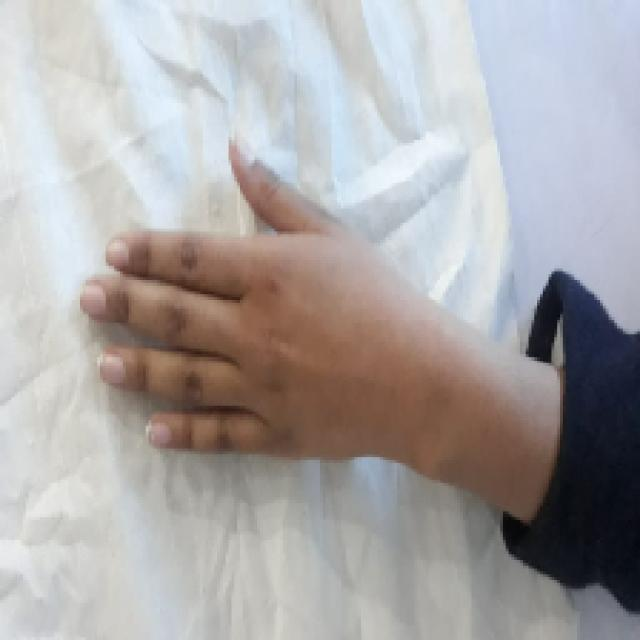Nail: (81, 285, 106, 316), (100, 354, 125, 384), (232, 136, 256, 166), (106, 239, 129, 270), (146, 422, 171, 446)
